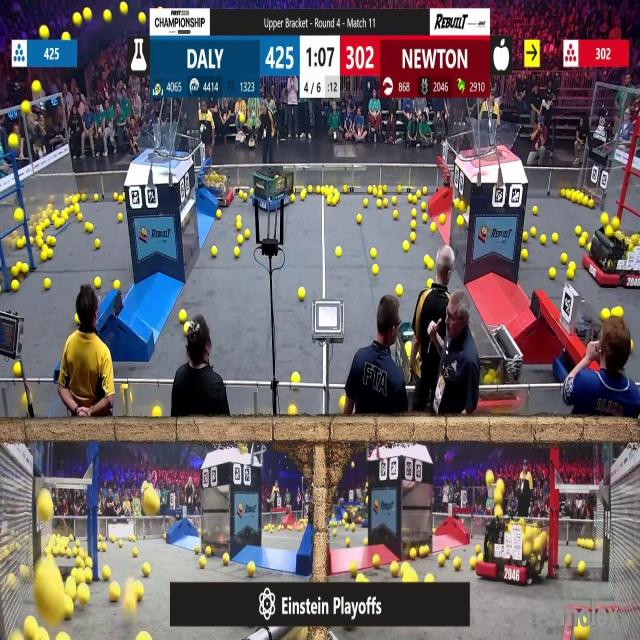ball_airborne: (38, 490, 52, 519), (144, 490, 159, 514), (8, 134, 18, 148), (40, 26, 49, 40), (32, 82, 41, 95), (494, 490, 502, 504), (14, 208, 22, 222), (486, 470, 494, 484), (22, 102, 30, 114), (74, 12, 82, 24), (82, 8, 90, 20), (496, 480, 503, 493), (104, 9, 111, 21), (495, 507, 502, 519), (119, 2, 126, 14), (139, 12, 146, 23), (63, 32, 70, 41), (240, 114, 246, 123)
ball_ground: (78, 586, 89, 605), (26, 618, 37, 637), (110, 584, 120, 602), (65, 604, 74, 621), (136, 584, 144, 602), (574, 628, 586, 640), (390, 562, 400, 576), (408, 570, 419, 581), (350, 561, 358, 576), (36, 630, 48, 640), (102, 566, 110, 580), (614, 307, 624, 318), (601, 310, 610, 322), (179, 310, 187, 323), (86, 569, 94, 582), (288, 407, 297, 418), (152, 408, 161, 419), (248, 562, 255, 576), (13, 361, 20, 375), (143, 562, 150, 576), (406, 343, 413, 357), (46, 237, 55, 247), (10, 632, 21, 640), (200, 556, 207, 568), (11, 280, 18, 292), (411, 549, 418, 561), (577, 562, 584, 574), (454, 558, 461, 570), (138, 633, 150, 640), (425, 573, 434, 582), (356, 573, 365, 582), (291, 374, 299, 384), (419, 548, 427, 558), (452, 201, 460, 211), (298, 287, 304, 300), (402, 241, 409, 252), (550, 269, 557, 280), (371, 556, 378, 567), (564, 556, 571, 567), (11, 268, 18, 279), (59, 633, 70, 640), (401, 562, 408, 573), (396, 284, 402, 296), (222, 554, 228, 566), (341, 396, 347, 408), (16, 240, 24, 249), (95, 278, 102, 288), (44, 279, 50, 290), (522, 249, 528, 260), (469, 558, 475, 569), (440, 556, 446, 567), (46, 249, 52, 260), (602, 214, 608, 225), (335, 192, 341, 203), (87, 222, 94, 231), (420, 202, 427, 211), (87, 559, 94, 568), (36, 239, 43, 248), (587, 539, 594, 548), (114, 280, 120, 290), (370, 248, 376, 258), (235, 248, 241, 258), (411, 233, 417, 243), (567, 270, 573, 280), (371, 266, 377, 276), (578, 238, 584, 248), (441, 214, 447, 224), (574, 225, 580, 235), (523, 232, 529, 242), (242, 228, 248, 238), (206, 545, 212, 555), (422, 213, 428, 223), (23, 265, 29, 275), (533, 227, 539, 237), (40, 251, 46, 261), (459, 201, 465, 211), (76, 558, 82, 568), (212, 246, 217, 257), (562, 253, 568, 262), (427, 262, 433, 271), (95, 240, 101, 249), (237, 221, 243, 230), (412, 209, 418, 218), (457, 216, 463, 225), (356, 214, 362, 223), (540, 236, 546, 245), (74, 204, 80, 213), (445, 546, 451, 555), (371, 188, 377, 197), (216, 210, 221, 220), (337, 247, 342, 257), (553, 234, 558, 244), (183, 324, 188, 334), (134, 549, 139, 559), (74, 314, 79, 324), (568, 264, 575, 271), (194, 544, 200, 552), (426, 279, 432, 287), (299, 191, 305, 199), (238, 237, 244, 245), (94, 192, 100, 200), (80, 192, 86, 200), (77, 214, 83, 222), (316, 185, 322, 193), (393, 210, 398, 219), (412, 220, 417, 229), (430, 222, 435, 231), (424, 255, 429, 264), (290, 193, 295, 202), (328, 198, 333, 207), (118, 193, 123, 202), (532, 207, 538, 214), (237, 215, 243, 222), (396, 185, 402, 192), (363, 200, 368, 208), (120, 214, 125, 222), (346, 538, 351, 546), (309, 185, 314, 193), (344, 185, 349, 193), (118, 539, 123, 547), (351, 524, 356, 532), (378, 190, 383, 198), (413, 197, 418, 205), (584, 618, 589, 626), (364, 537, 368, 546), (409, 193, 413, 202), (561, 188, 565, 197), (243, 192, 248, 199), (423, 187, 428, 194), (331, 529, 336, 536), (417, 189, 422, 196), (103, 543, 108, 550), (384, 200, 388, 208), (392, 198, 396, 206), (114, 192, 118, 200), (98, 542, 102, 550), (344, 514, 348, 522), (131, 535, 136, 541), (378, 201, 382, 208), (475, 544, 479, 551), (346, 523, 350, 530), (164, 534, 168, 540), (99, 534, 102, 541), (432, 528, 435, 534), (199, 532, 202, 538)
goal: (466, 121, 521, 160), (130, 129, 189, 160)
robot_blue: (253, 166, 294, 212)
robot_red: (482, 514, 550, 584), (476, 342, 524, 414), (586, 222, 638, 286), (200, 168, 233, 207)
